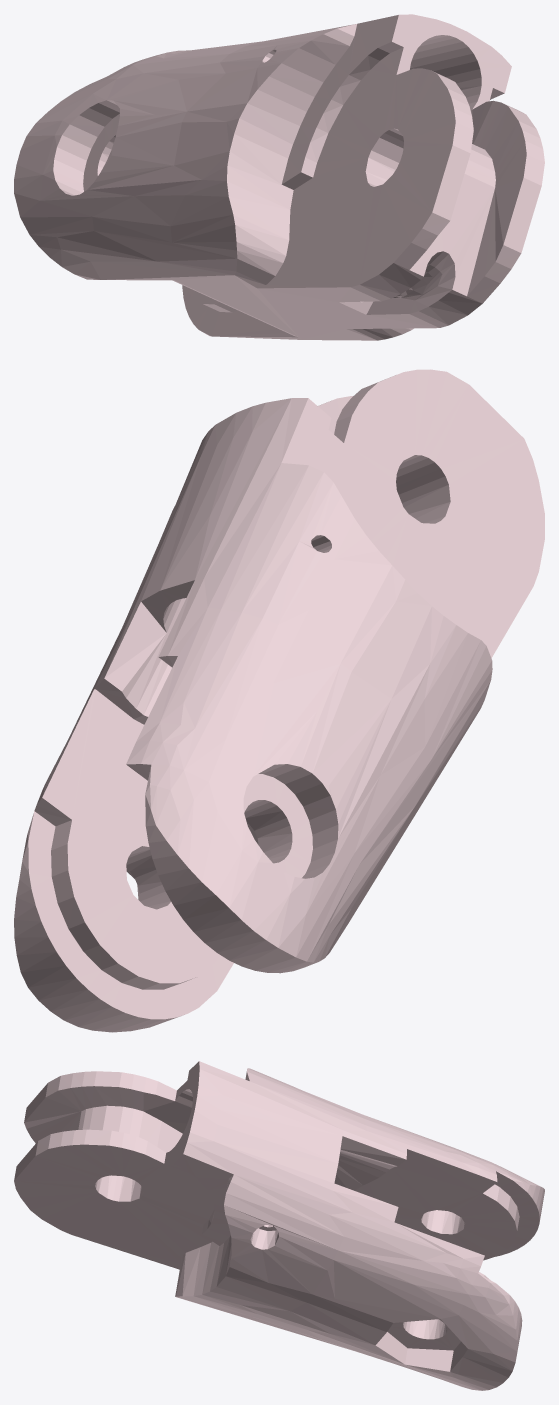
File: i02_leftHand_ringFingerMid_visual.obj.light.glb
The picture shows the model from 3 angles, top to bottom: view 1: azimuth 30°, elevation 25°; view 2: azimuth 150°, elevation 25°; view 3: azimuth 270°, elevation 25°; orthographic projection. The views are drawn at different scales.
Bounding box in the file's own units: 0.1925 × 0.2688 × 0.3907.
